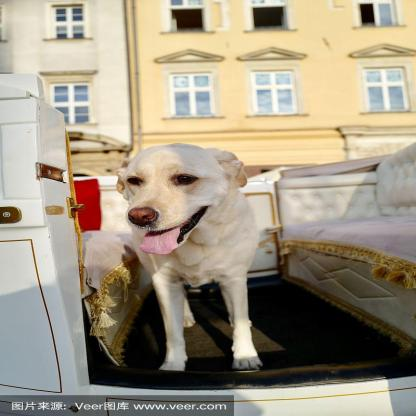Labarador Retriever: (117, 141, 269, 370)
